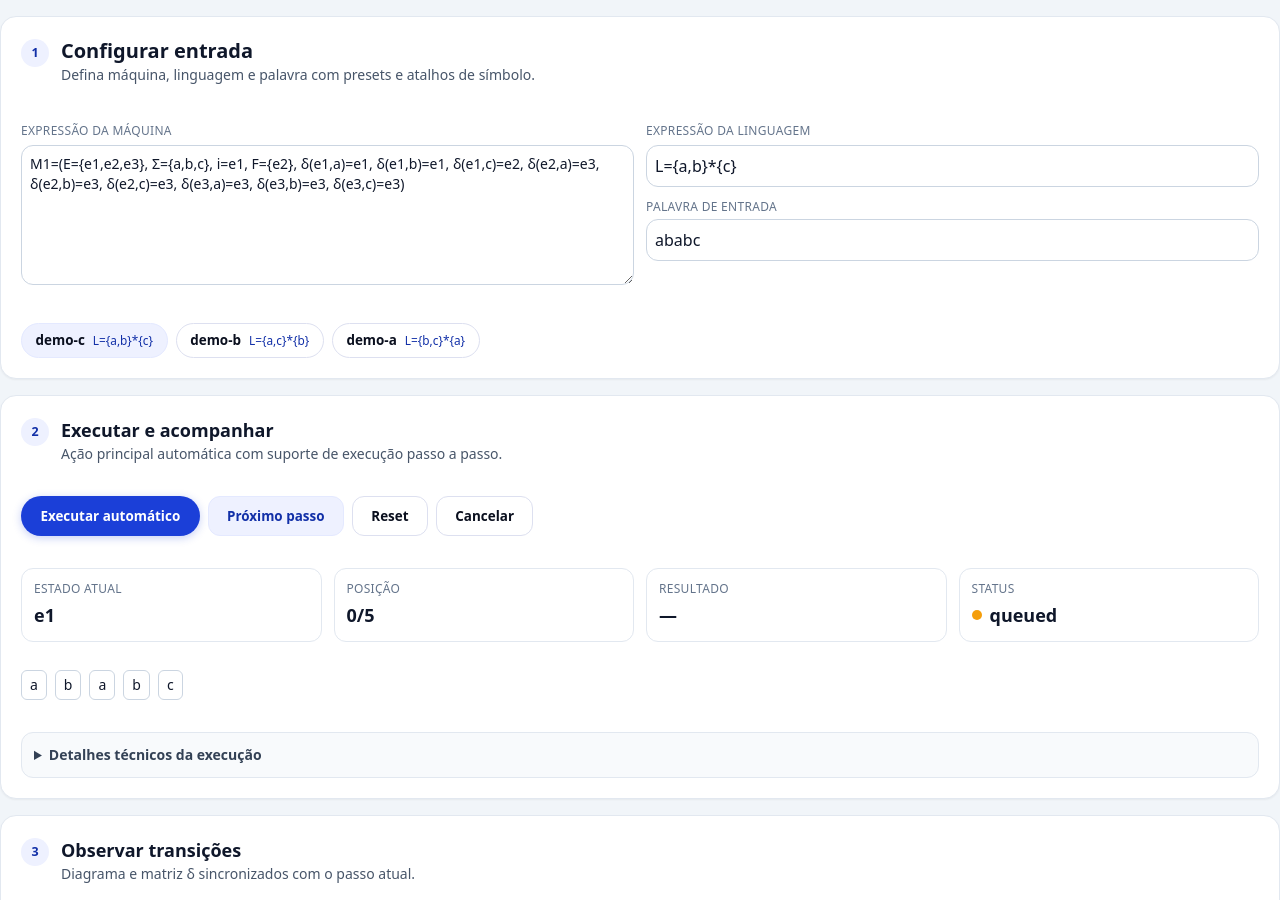
Test: AfdSimulator › exibe teclado contextual somente após foco e insere símbolo no campo ativo
The width and height of the screenshot is (1280, 900).
Replace the text in the field labelled "Expressão da linguagem" with "L=" at x=952, y=166, box x1=646 y1=145 x2=1259 y2=187
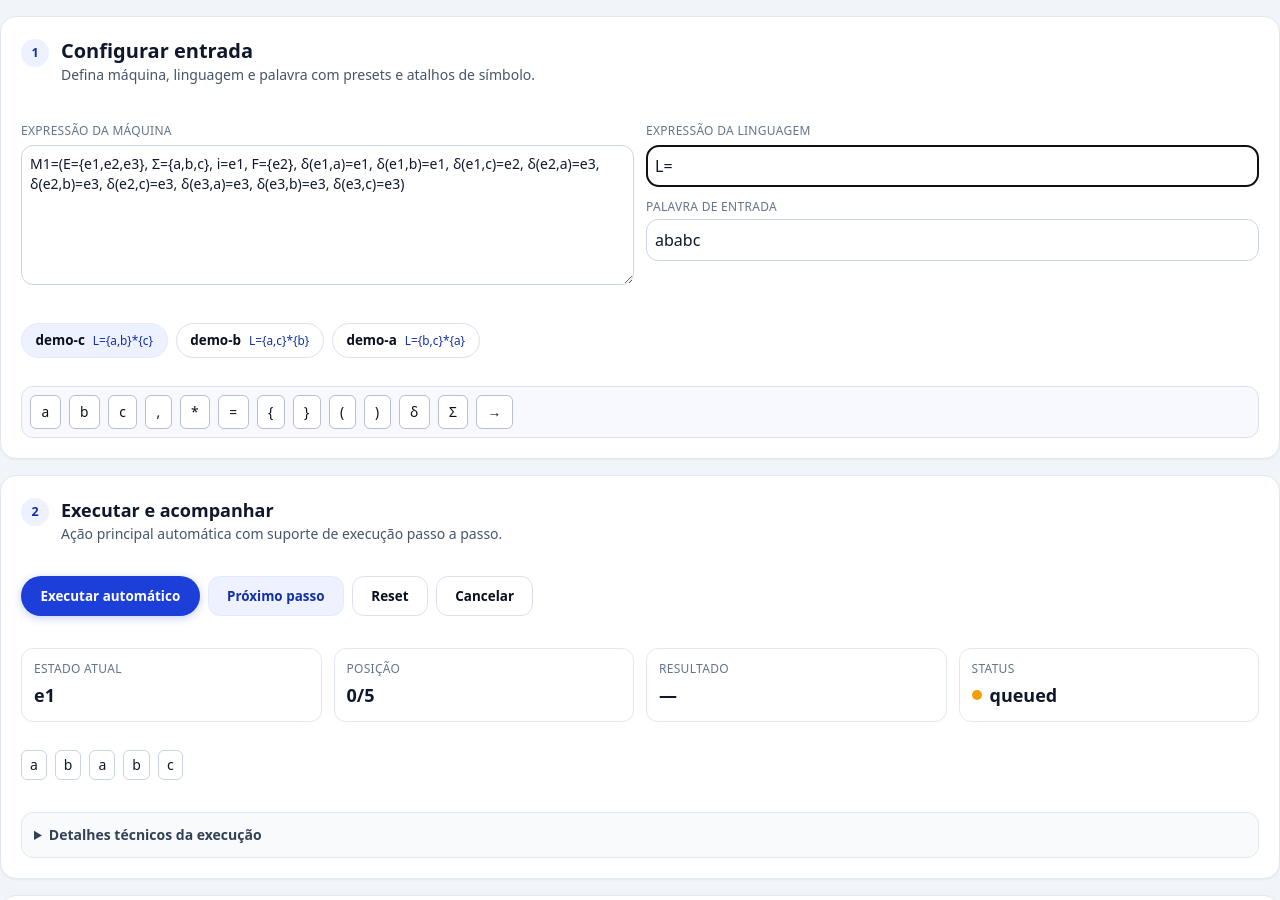
Click the button "Σ" at x=453, y=412, box x1=438 y1=395 x2=468 y2=429
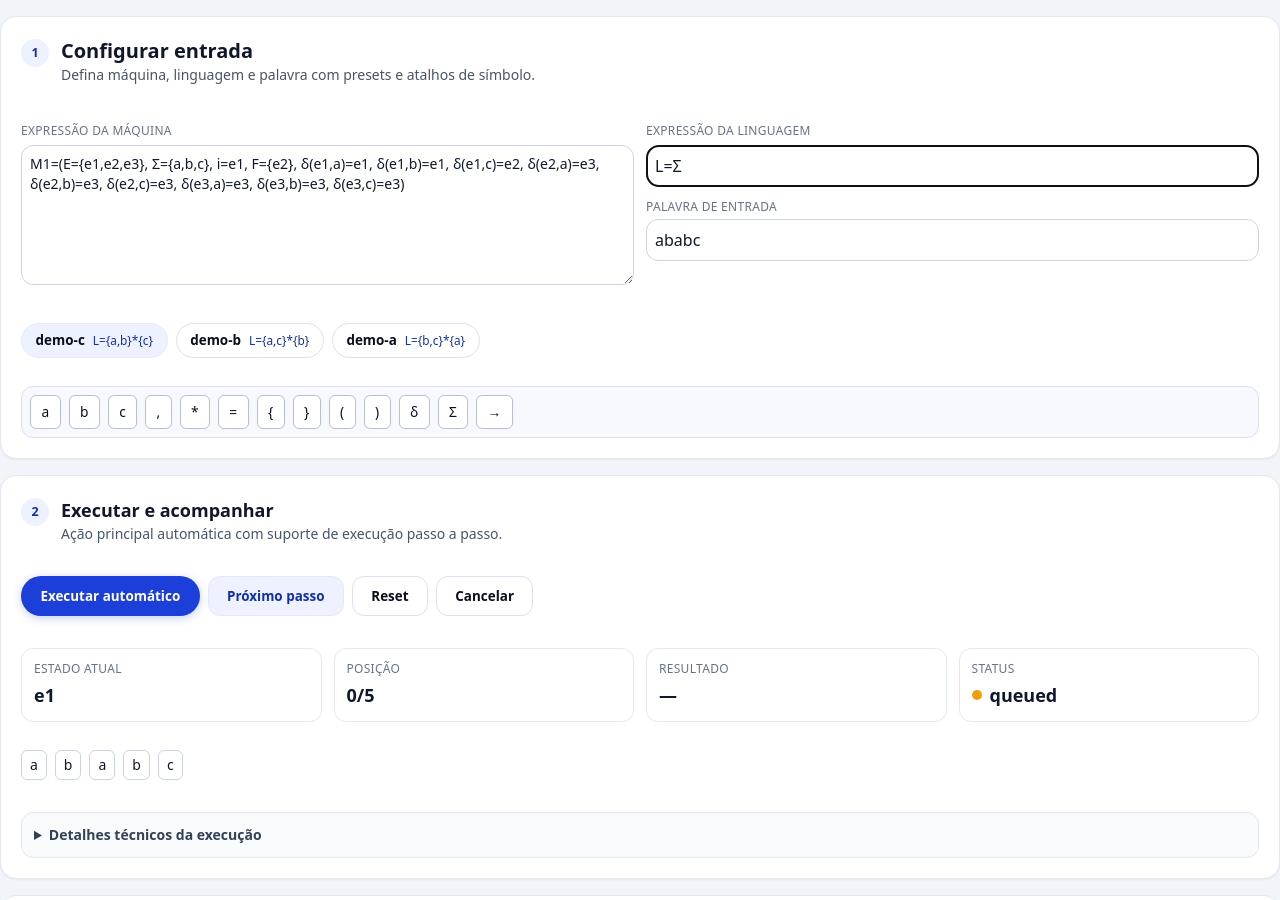
Result: the field labelled "Expressão da linguagem" holds "L=Σ" at x1=646 y1=145 x2=1259 y2=187
